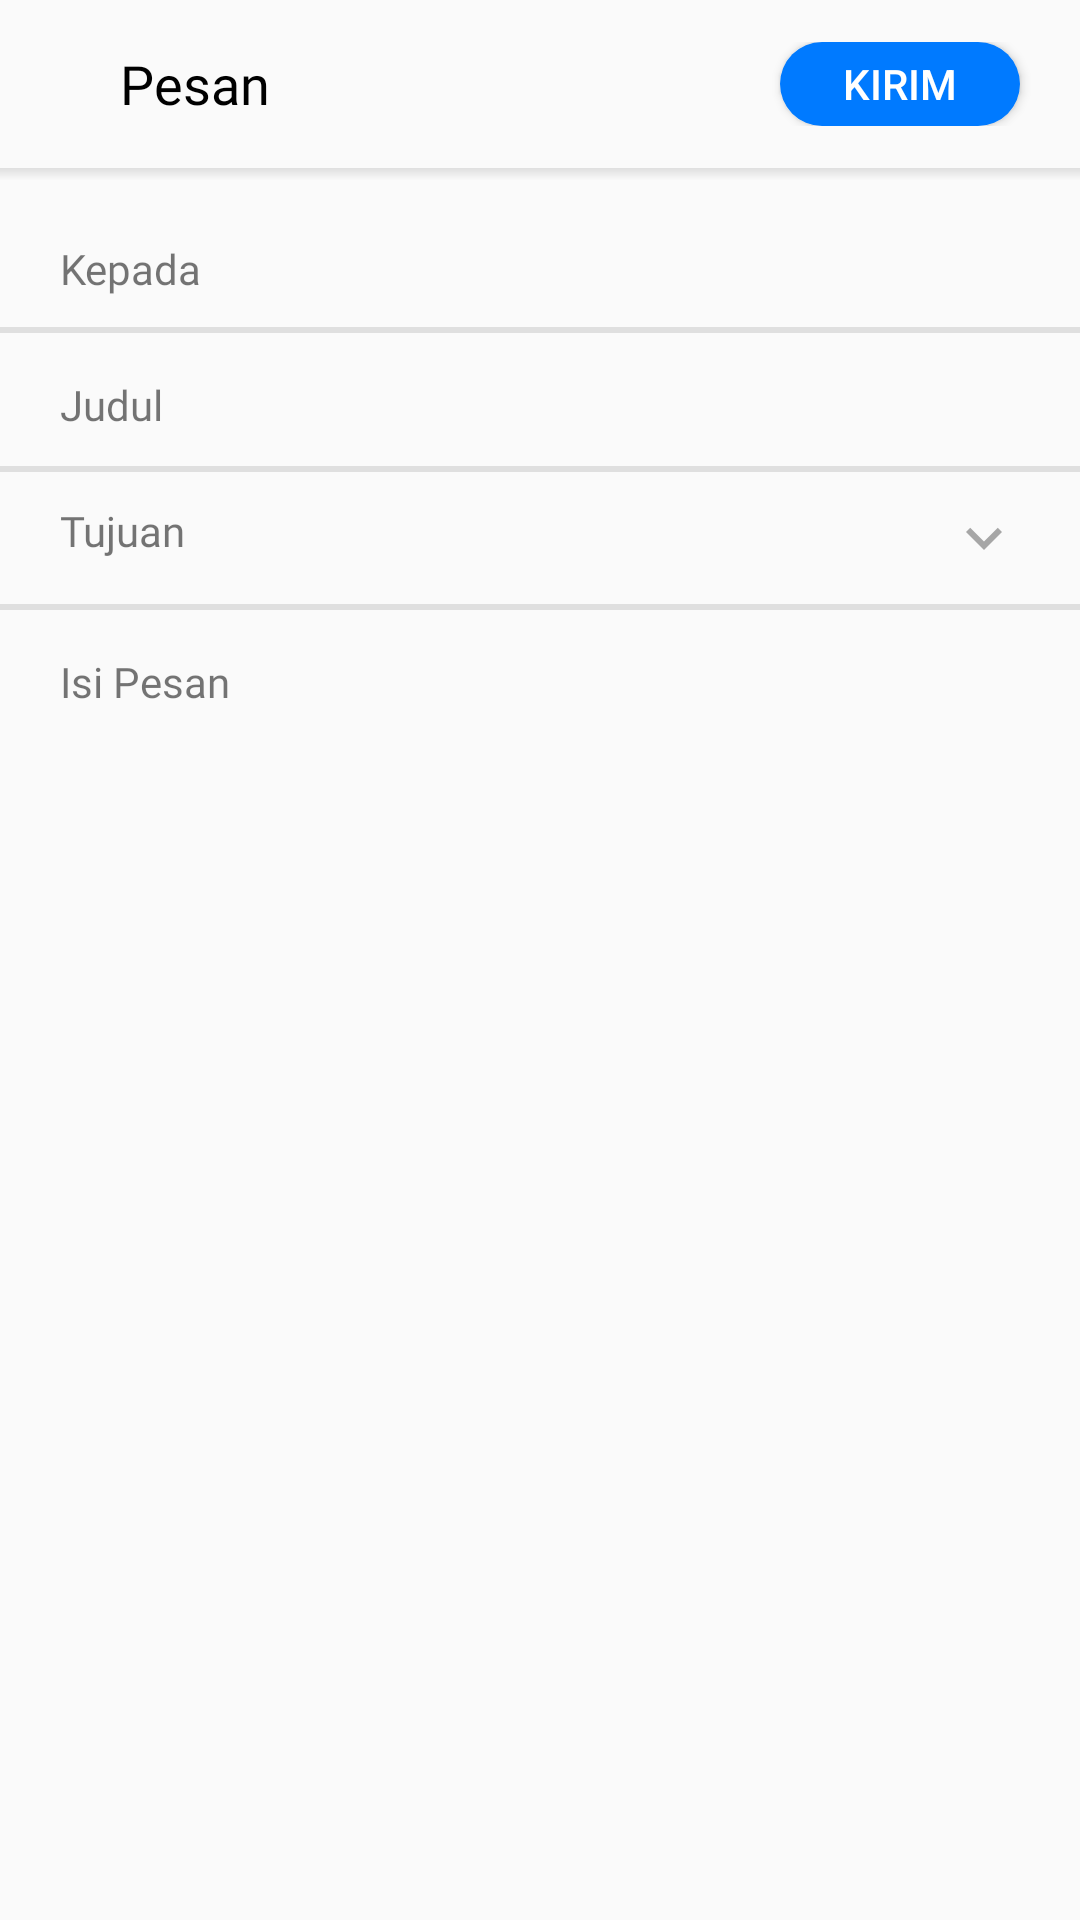

Icon bounding boxes for this 1080 × 1920 phone screenshot, format (x1, y1, x2, y2):
expand more: (966, 528, 1002, 550)
